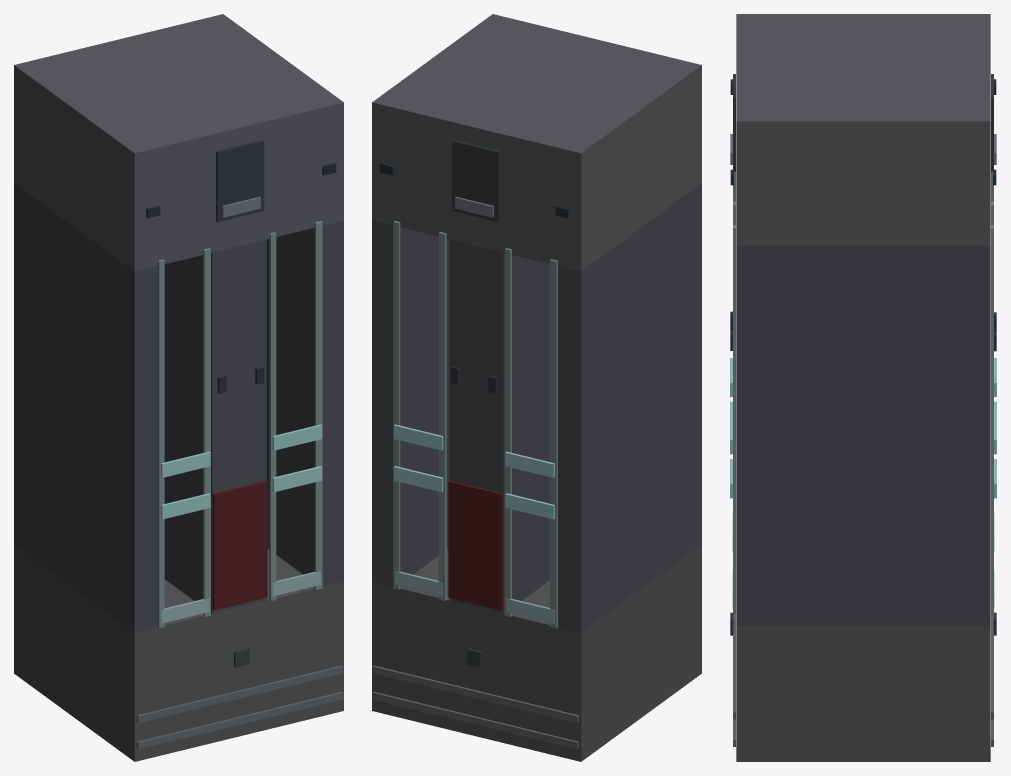
File: CMU3DPrisonCellObservationWindow.glb
The picture shows the model from 3 angles, left to right: view 1: azimuth 30°, elevation 25°; view 2: azimuth 150°, elevation 25°; view 3: azimuth 270°, elevation 25°; orthographic projection. The views are drawn at different scales.
Parts seen in each view (by area): view 1: thick cell-window pier (×3), cell-window upper header, cell-window lower block, slit steel reveal (×4), burgundy center warning panel, lower case horizontal seam (×2), slit horizontal brace (×4), upper square recess, slit top bevel (×2); view 2: thick cell-window pier (×3), cell-window upper header, cell-window lower block, slit steel reveal (×4), burgundy center warning panel, lower case horizontal seam (×2), slit horizontal brace (×4), upper square recess, slit top bevel (×2); view 3: thick cell-window pier, cell-window upper header, cell-window lower block, slit steel reveal (×2).
Part boxes in pixels (<box>): thick cell-window pier (×3): <box>14,183,343,632</box>; cell-window upper header: <box>14,14,343,271</box>; cell-window lower block: <box>14,544,343,761</box>; slit steel reveal (×4): <box>158,221,322,628</box>; burgundy center warning panel: <box>212,480,267,610</box>; lower case horizontal seam (×2): <box>137,665,343,749</box>; slit horizontal brace (×4): <box>161,424,322,519</box>; upper square recess: <box>216,140,264,222</box>; slit top bevel (×2): <box>161,571,320,623</box>; thick cell-window pier (×3): <box>372,183,701,632</box>; cell-window upper header: <box>372,14,701,271</box>; cell-window lower block: <box>372,544,701,761</box>; slit steel reveal (×4): <box>393,221,557,628</box>; burgundy center warning panel: <box>448,480,503,610</box>; lower case horizontal seam (×2): <box>372,665,578,749</box>; slit horizontal brace (×4): <box>393,424,554,519</box>; upper square recess: <box>451,140,499,222</box>; slit top bevel (×2): <box>395,571,554,623</box>; thick cell-window pier: <box>736,246,990,625</box>; cell-window upper header: <box>736,14,990,245</box>; cell-window lower block: <box>736,626,990,761</box>; slit steel reveal (×2): <box>733,225,993,614</box>.
Bounding box in the file's own units: 1 × 2.78 × 1.05.
